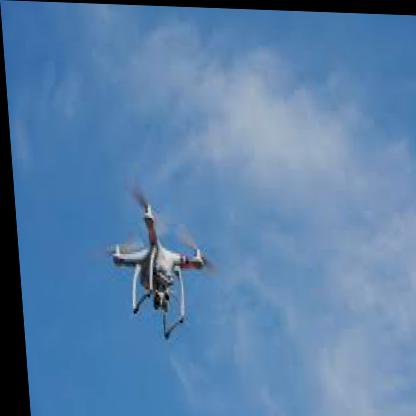UAS: (107, 202, 204, 338)
